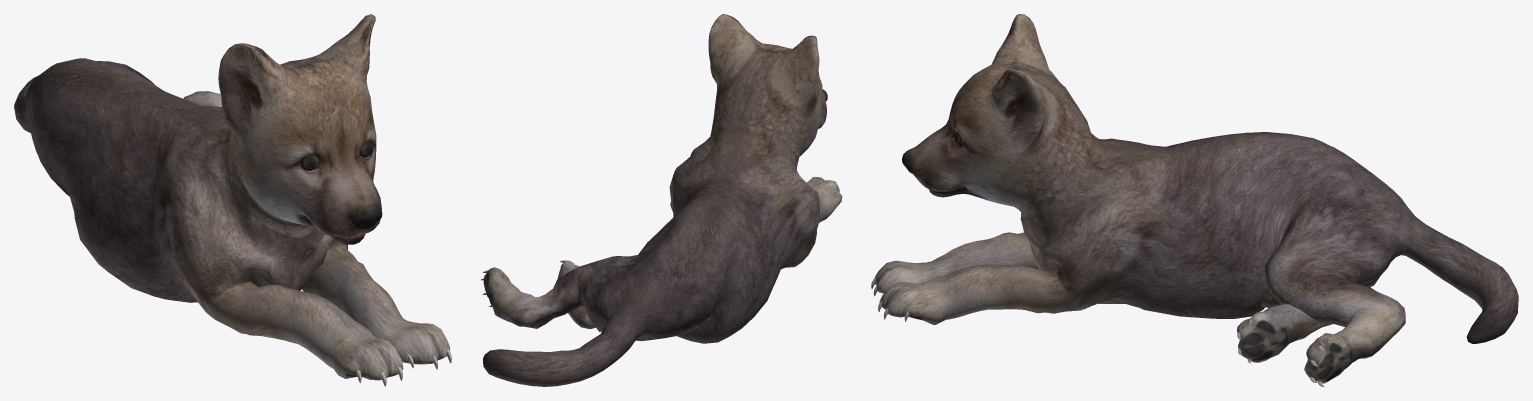
Rendered from WOLF.glb.
3 views of the same model, side by side, from view 1: azimuth 30°, elevation 25°; view 2: azimuth 150°, elevation 25°; view 3: azimuth 270°, elevation 25° (orthographic). The views are drawn at different scales.
Parts seen in each view (by area): view 1: SkeletalMeshComponent0_LOD0; view 2: SkeletalMeshComponent0_LOD0; view 3: SkeletalMeshComponent0_LOD0.
Boxes of the visible parts, x1,y1,x2,y2 form: SkeletalMeshComponent0_LOD0: (14, 14, 451, 386); SkeletalMeshComponent0_LOD0: (481, 14, 842, 386); SkeletalMeshComponent0_LOD0: (871, 14, 1518, 386).
Size of the model in its own units: 7.88 by 7.82 by 16.21.
1 material, 1 textured.
